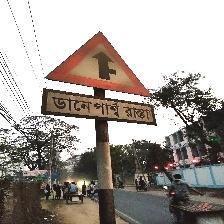Side-road-right: (42, 31, 155, 125)
